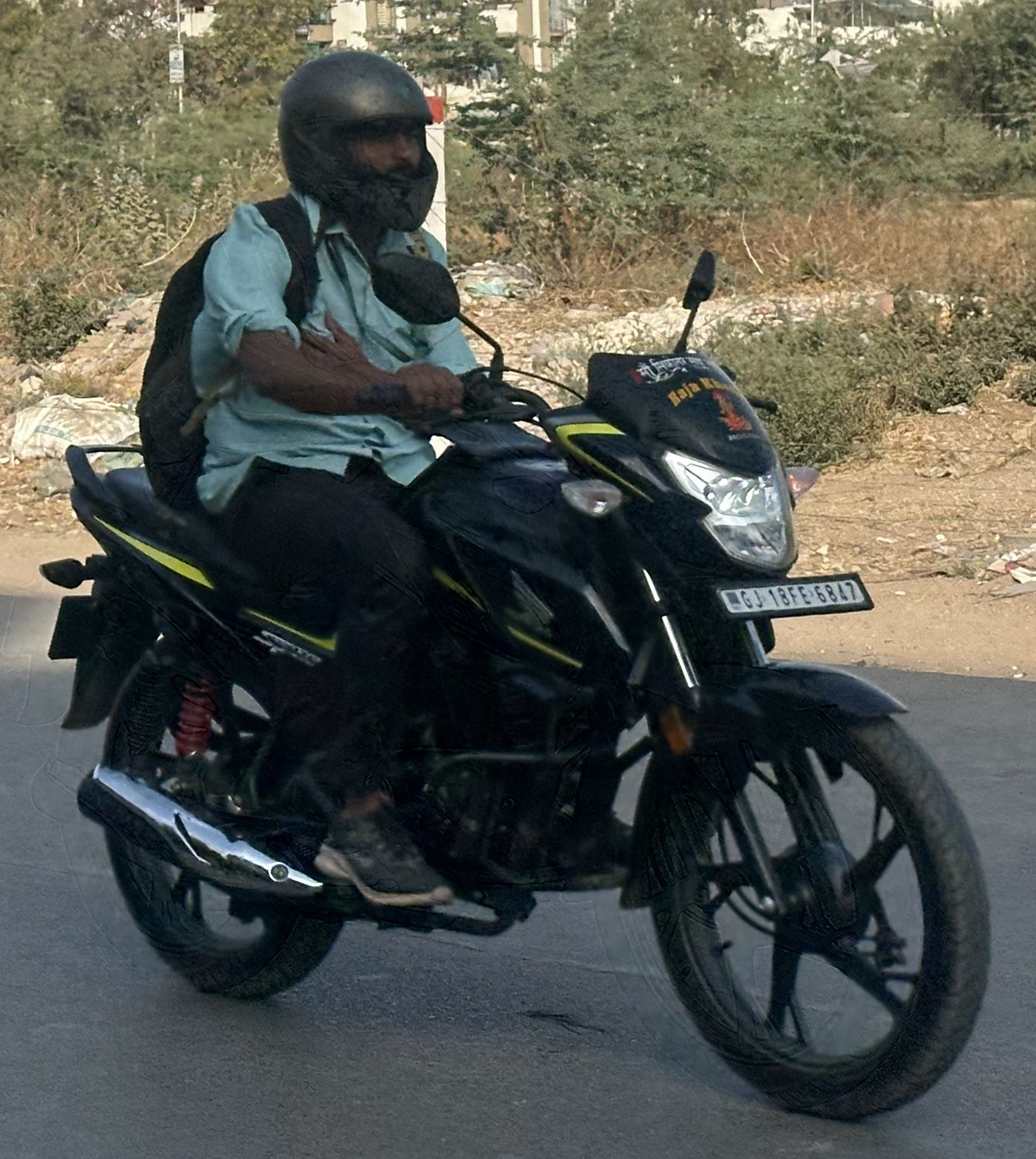BikeWithRider: (27, 36, 1007, 1133)
Helmet: (257, 39, 456, 239)
